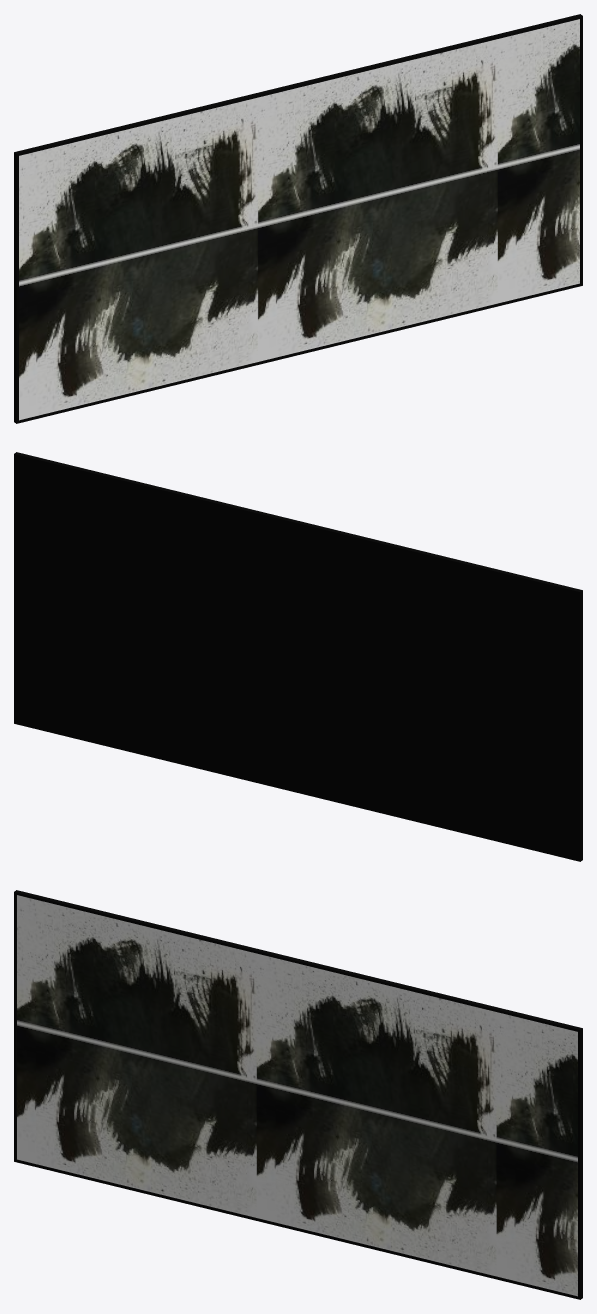
3 renders of one model, top to bottom at view 1: azimuth 30°, elevation 25°; view 2: azimuth 150°, elevation 25°; view 3: azimuth 330°, elevation 25°, orthographic.
Parts seen in each view (by area): view 1: Mesh2_Group_116_1_Component_1_1_quadro_grunge1_Model; view 2: Mesh2_Group_116_1_Component_1_1_quadro_grunge1_Model; view 3: Mesh2_Group_116_1_Component_1_1_quadro_grunge1_Model.
Boxes of the visible parts, box(x1,y1,x2,y2) form: Mesh2_Group_116_1_Component_1_1_quadro_grunge1_Model: box(14, 14, 582, 423); Mesh2_Group_116_1_Component_1_1_quadro_grunge1_Model: box(14, 452, 582, 861); Mesh2_Group_116_1_Component_1_1_quadro_grunge1_Model: box(14, 890, 582, 1299).
Bounding box in the file's own units: 41.34 × 18.82 × 0.3281.
Materials: 3 (1 with a texture image).
